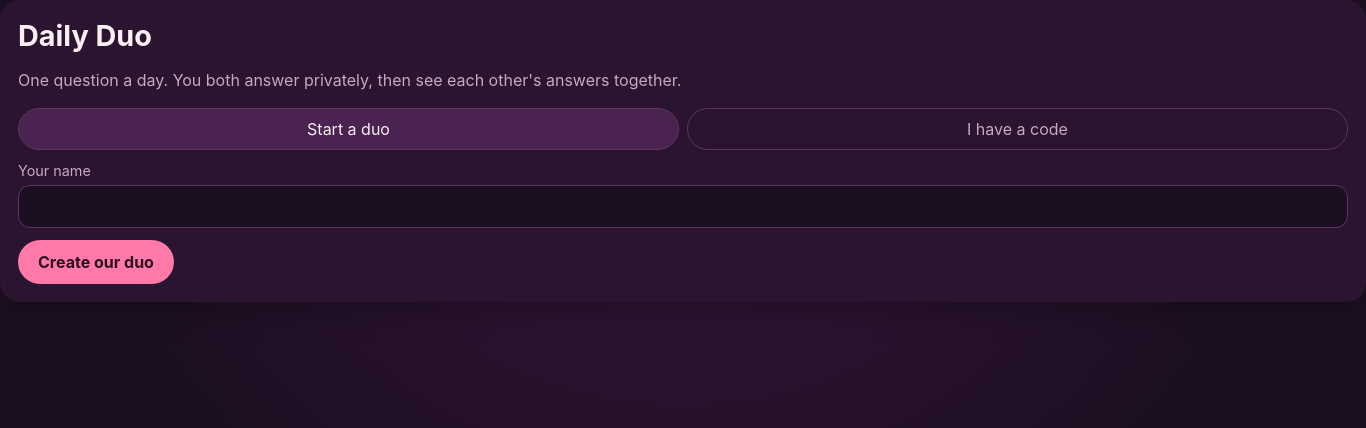
it: Onboarding › shows the server's error message
The image size is (1366, 428).
Click the tab "I have a code" at (1018, 129), box x1=687 y1=108 x2=1348 y2=150
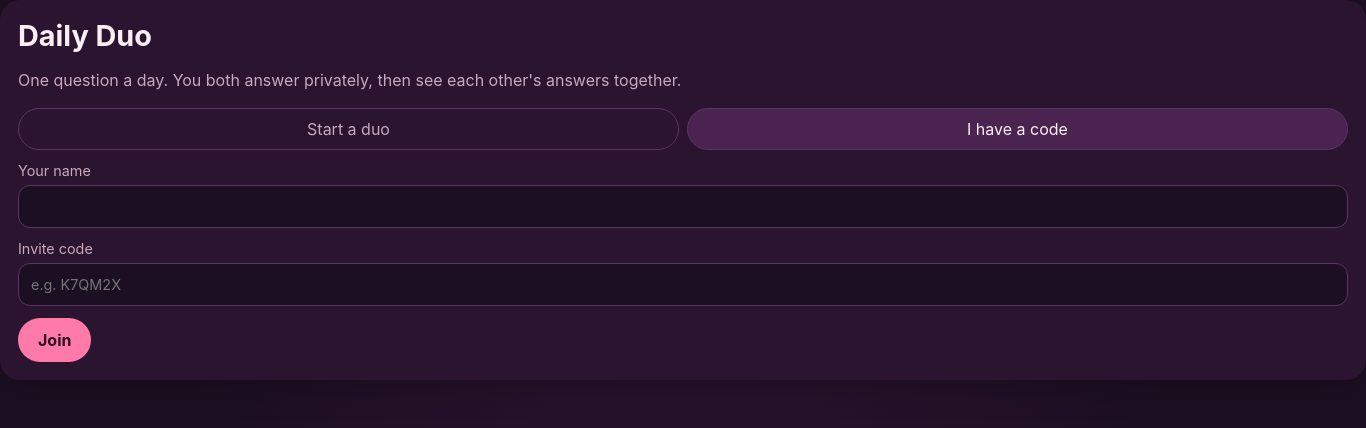
Type "Ravi" into the field labelled "Your name" at (683, 207), box x1=18 y1=185 x2=1348 y2=228
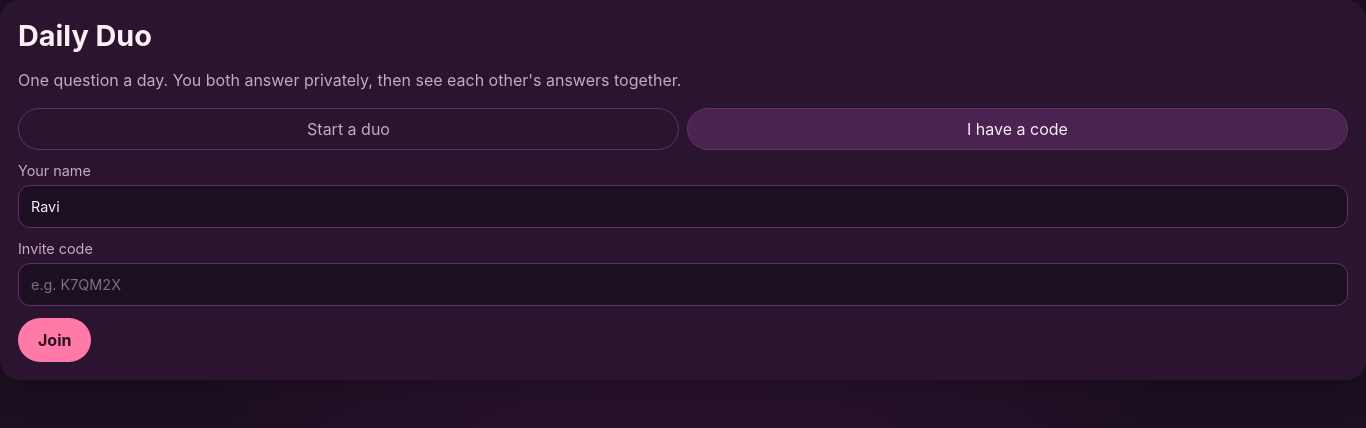
Type "nope22" into the field labelled "Invite code" at (683, 285), box x1=18 y1=263 x2=1348 y2=306
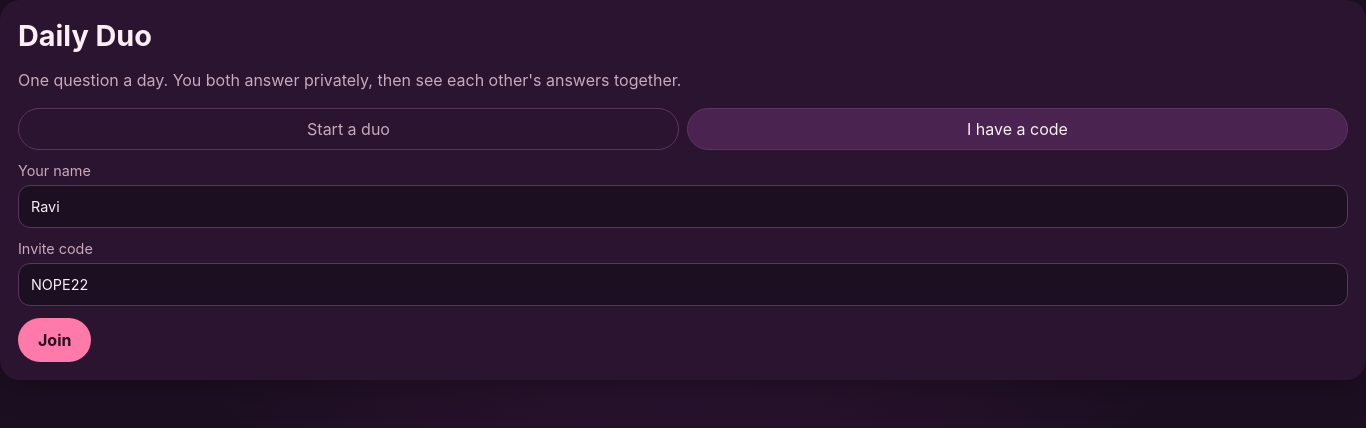
Click the button "Join" at (55, 340), box x1=18 y1=318 x2=92 y2=362
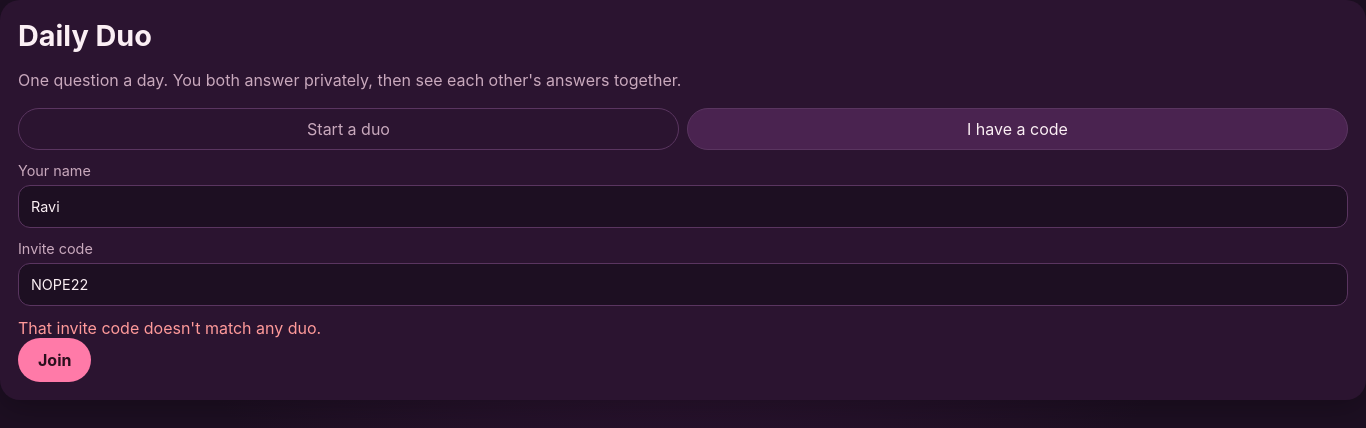
Check: the message shows "doesn't match", box x1=18 y1=318 x2=321 y2=338
